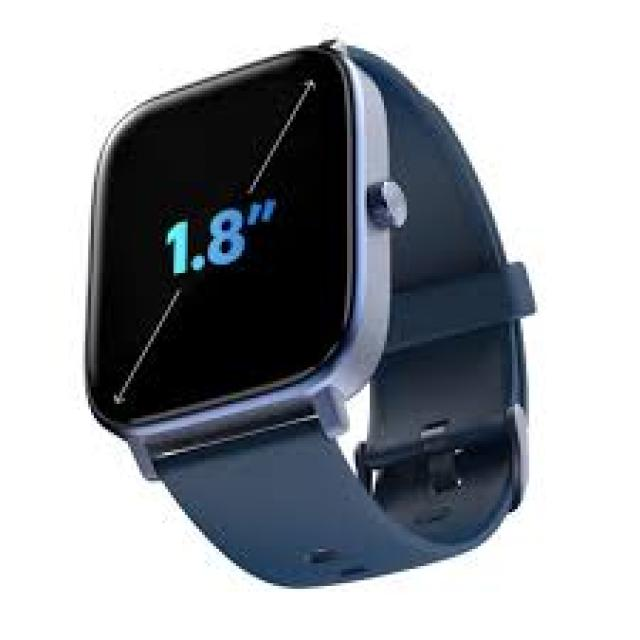objects: (84, 40, 535, 590)
